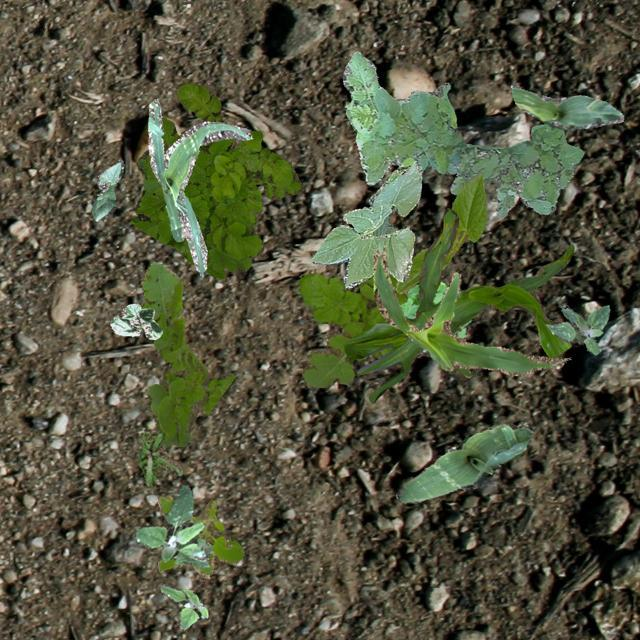crop: (342, 206, 572, 402), (372, 238, 568, 374), (147, 98, 250, 276), (310, 156, 420, 286), (396, 422, 532, 502), (394, 174, 486, 292), (510, 82, 622, 130), (90, 158, 122, 220), (108, 302, 162, 338), (370, 214, 396, 236)
weed: (342, 52, 582, 215), (130, 80, 302, 278), (140, 260, 233, 446), (296, 272, 406, 388), (156, 496, 244, 578), (134, 484, 212, 566), (398, 280, 469, 352), (544, 304, 608, 354), (136, 430, 182, 486), (160, 582, 207, 628)
